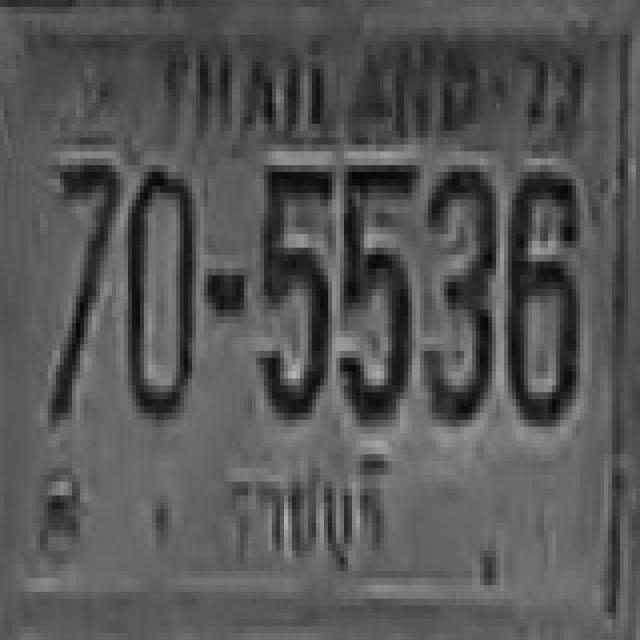0: (124, 158, 192, 413)
3: (420, 158, 492, 420)
5: (338, 162, 414, 416), (258, 158, 330, 413)
6: (504, 165, 576, 420)
7: (48, 155, 116, 416)
Ratchaburi: (217, 428, 392, 580)
